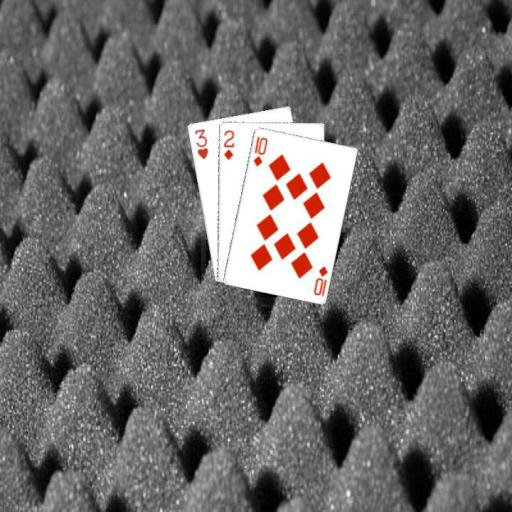10D: (310, 262, 329, 298), (250, 133, 269, 168)
2D: (220, 127, 235, 161)
3H: (191, 125, 209, 161)
